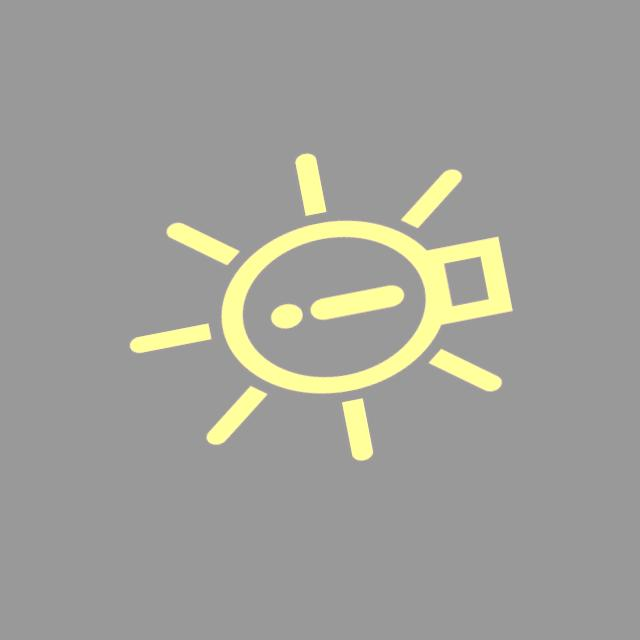kontrolka: (71, 101, 583, 529)
